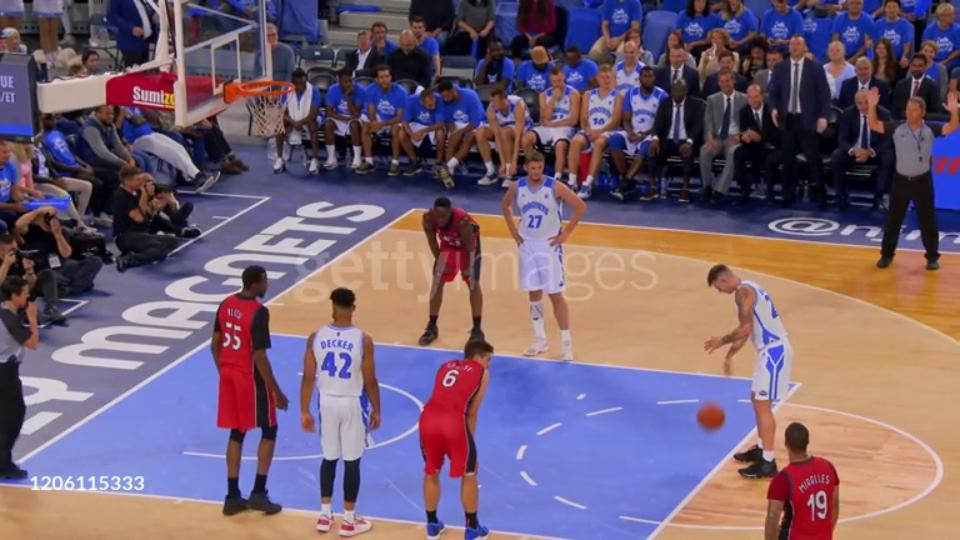hoop: (220, 77, 297, 104)
